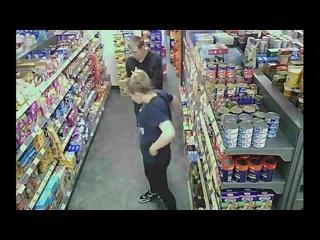Normal: (126, 69, 178, 210), (125, 36, 163, 90)
